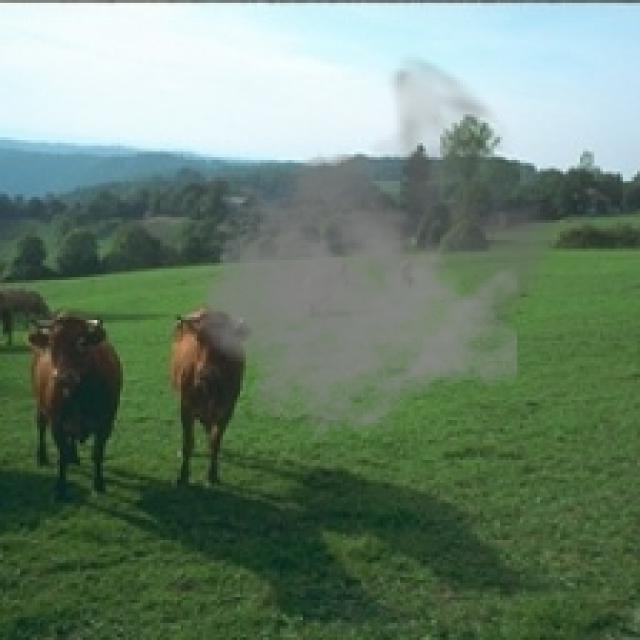smoke: (174, 51, 566, 443)
